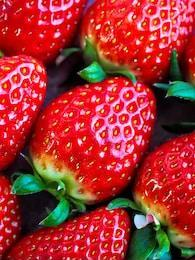Fresa: (24, 70, 167, 208)
